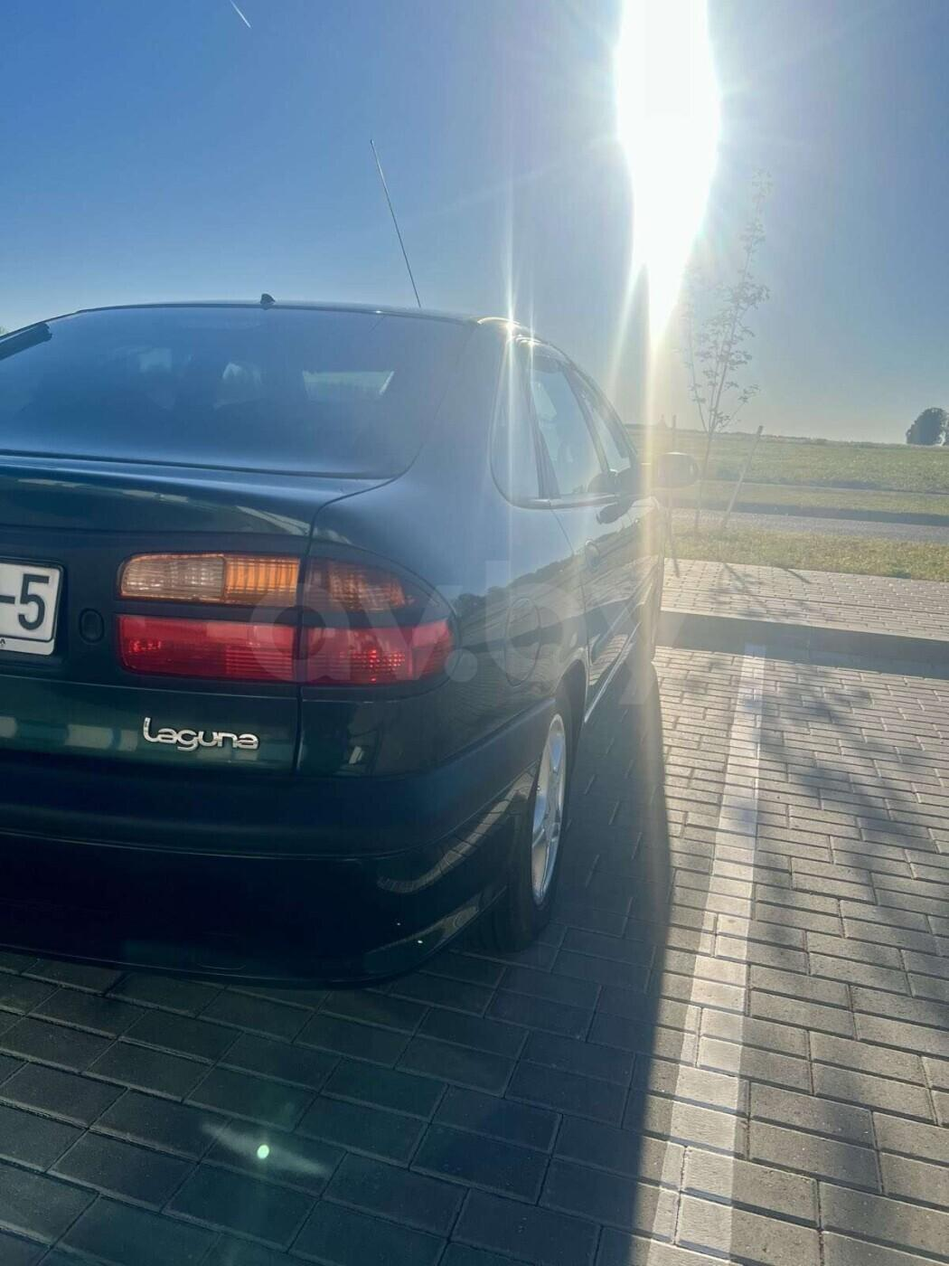Laguna_1998-2001: (0, 279, 678, 966)
